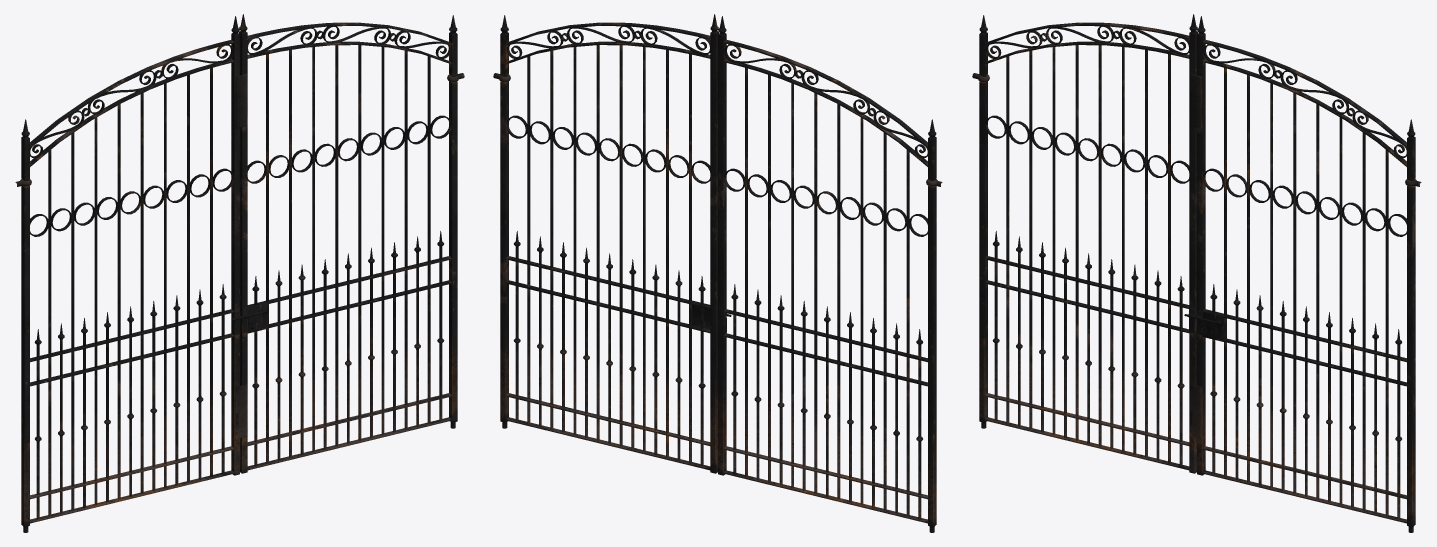
Rendered from large_iron_gate_2k.gltf.
3 views of the same model, side by side, from view 1: azimuth 30°, elevation 25°; view 2: azimuth 150°, elevation 25°; view 3: azimuth 330°, elevation 25° (orthographic).
Parts seen in each view (by area): view 1: large_iron_gate_right_door, large_iron_gate_left_door; view 2: large_iron_gate_left_door, large_iron_gate_right_door; view 3: large_iron_gate_right_door, large_iron_gate_left_door.
Boxes of the visible parts, bbox=[...] form: large_iron_gate_right_door: bbox=[235, 14, 457, 473]; large_iron_gate_left_door: bbox=[21, 16, 241, 532]; large_iron_gate_left_door: bbox=[718, 16, 936, 532]; large_iron_gate_right_door: bbox=[500, 14, 718, 473]; large_iron_gate_right_door: bbox=[1190, 16, 1415, 532]; large_iron_gate_left_door: bbox=[979, 14, 1197, 473].
Size of the model in its own units: 2.95 by 2.93 by 0.0973.
Materials: 1 (1 with a texture image).
